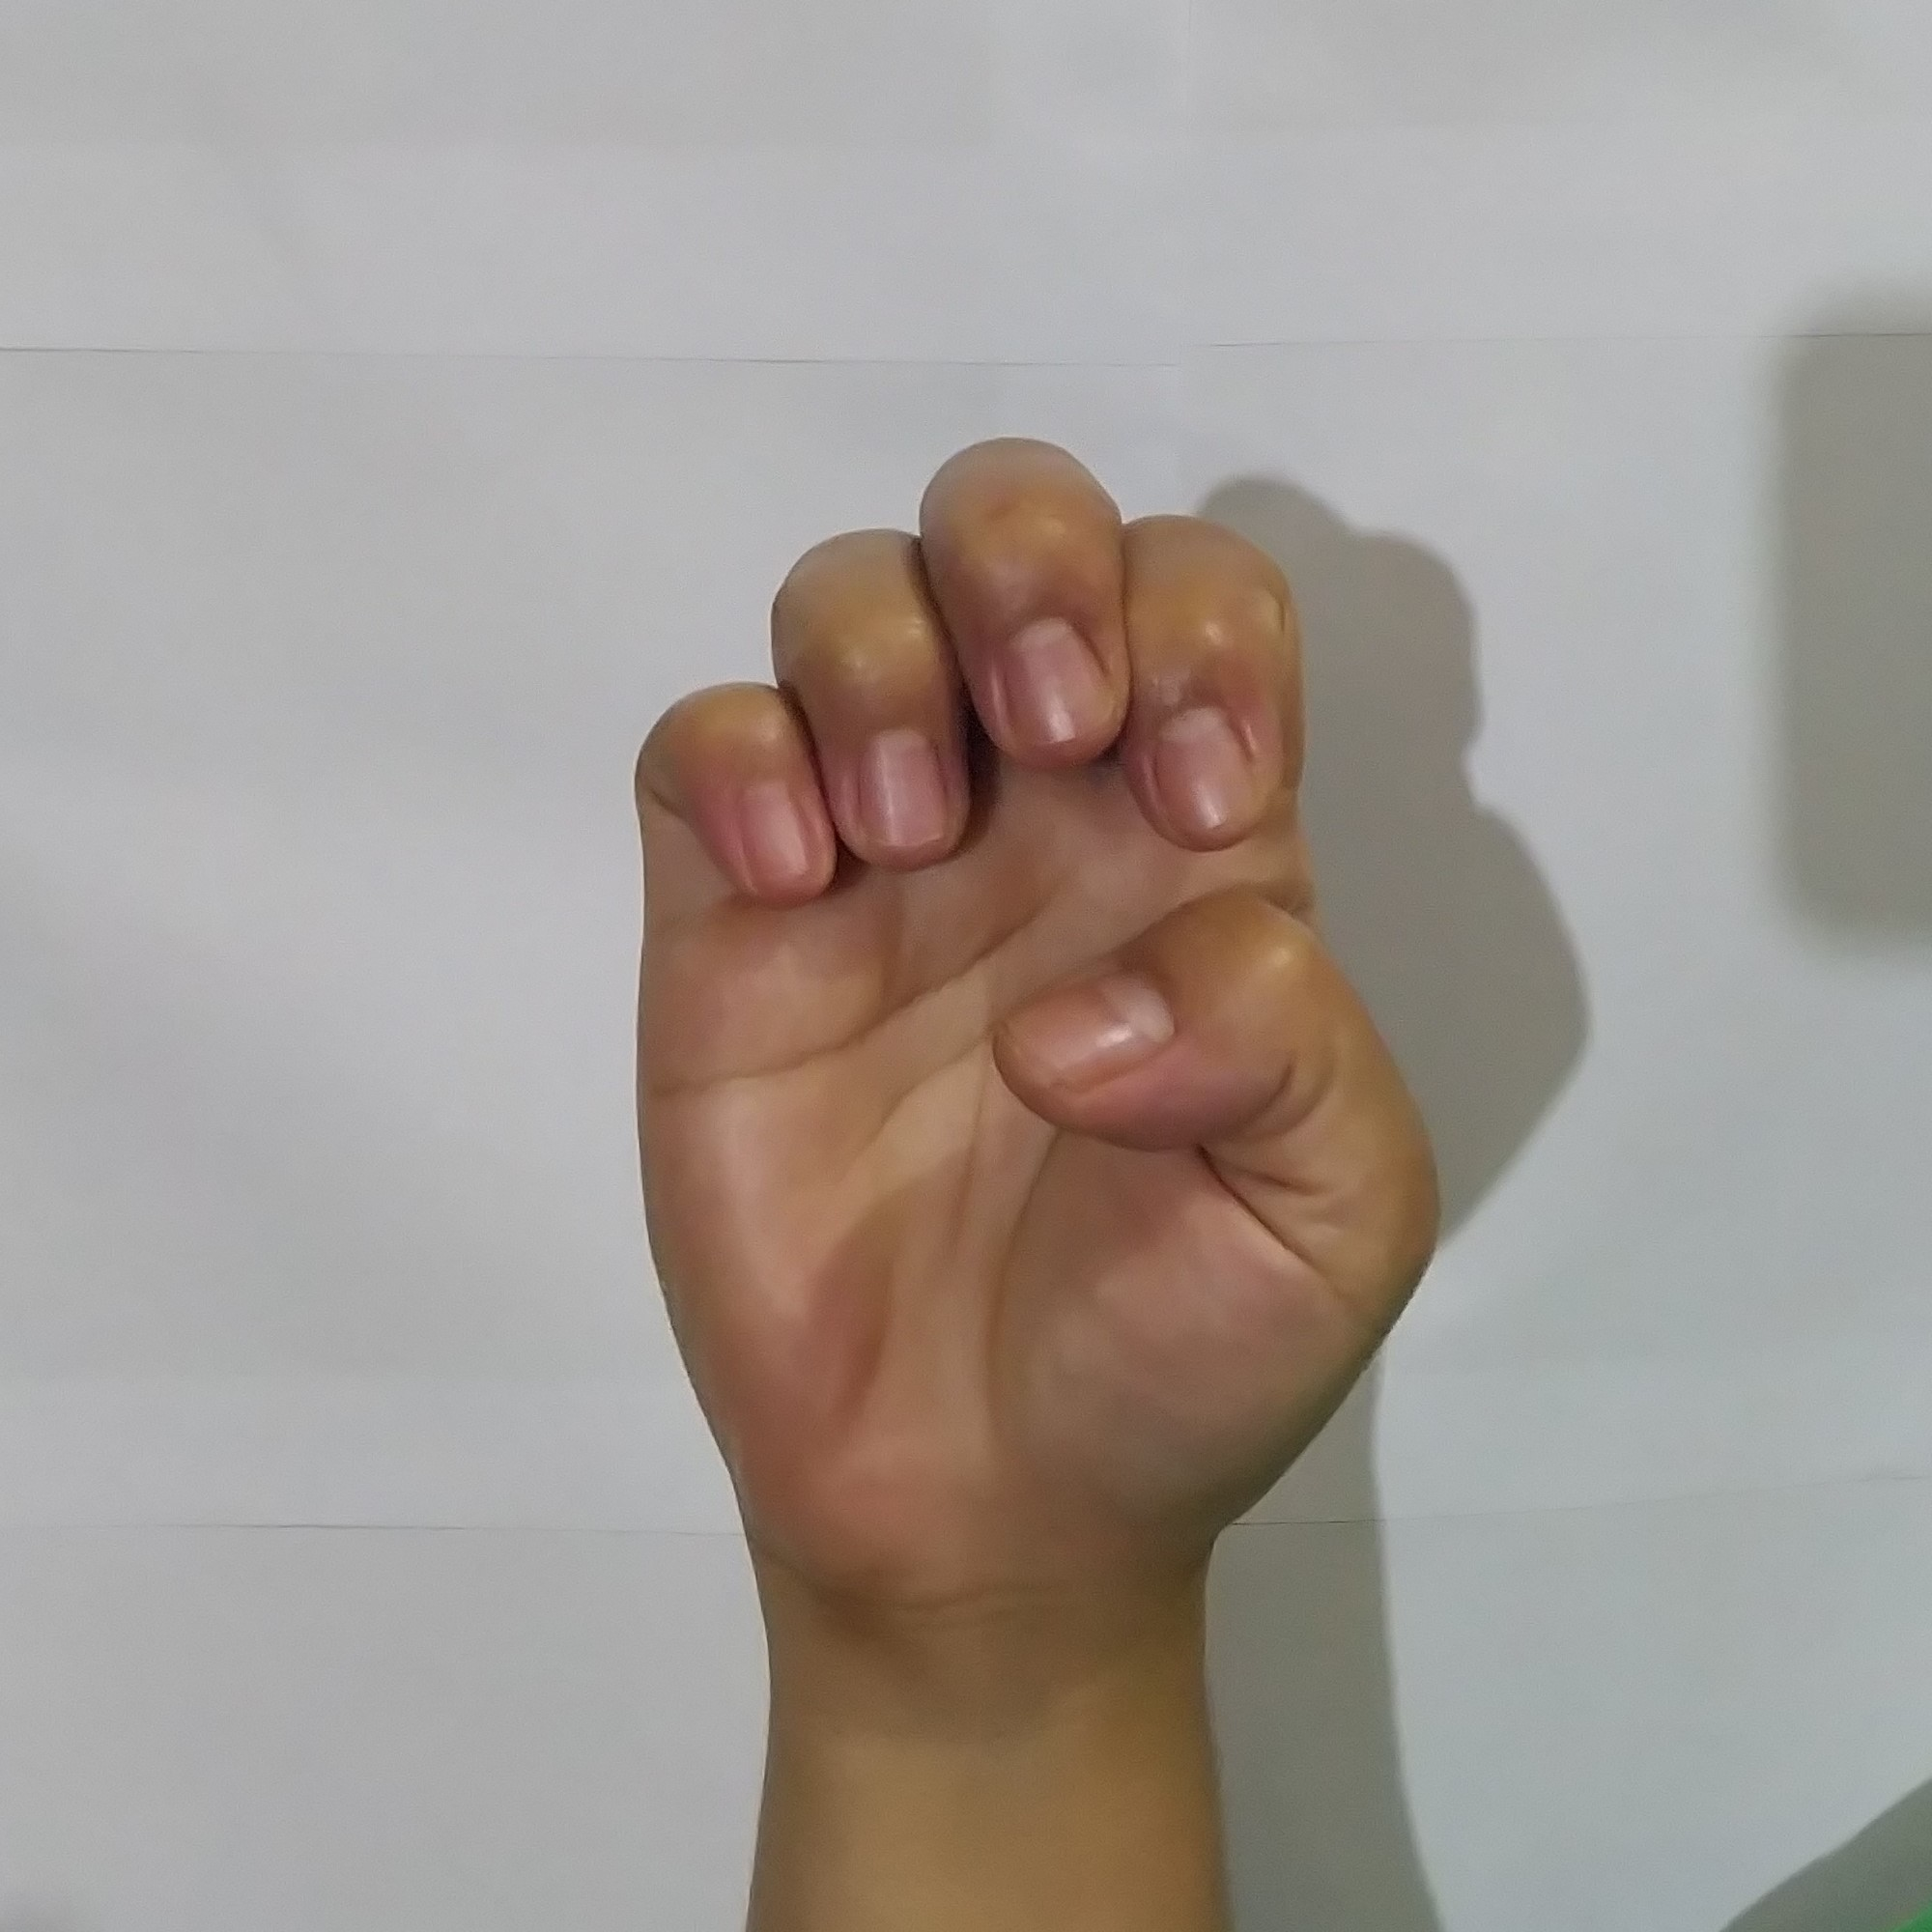E: (598, 412, 1467, 1559)
